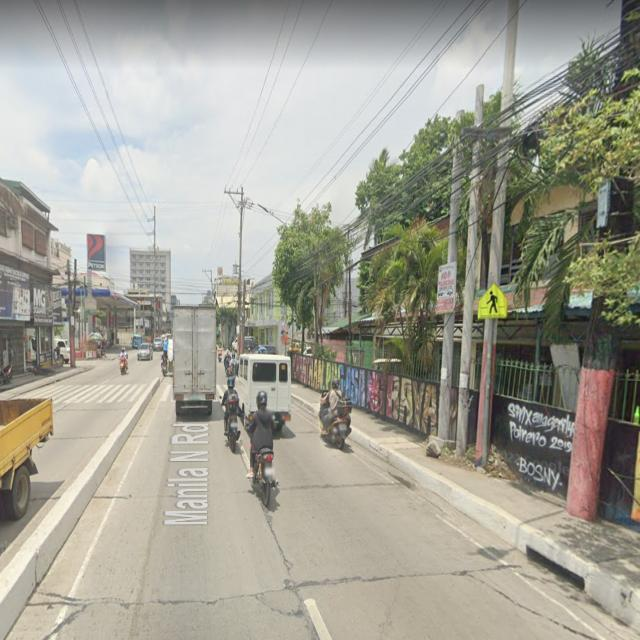pedestrian crossing: (478, 281, 508, 322)
